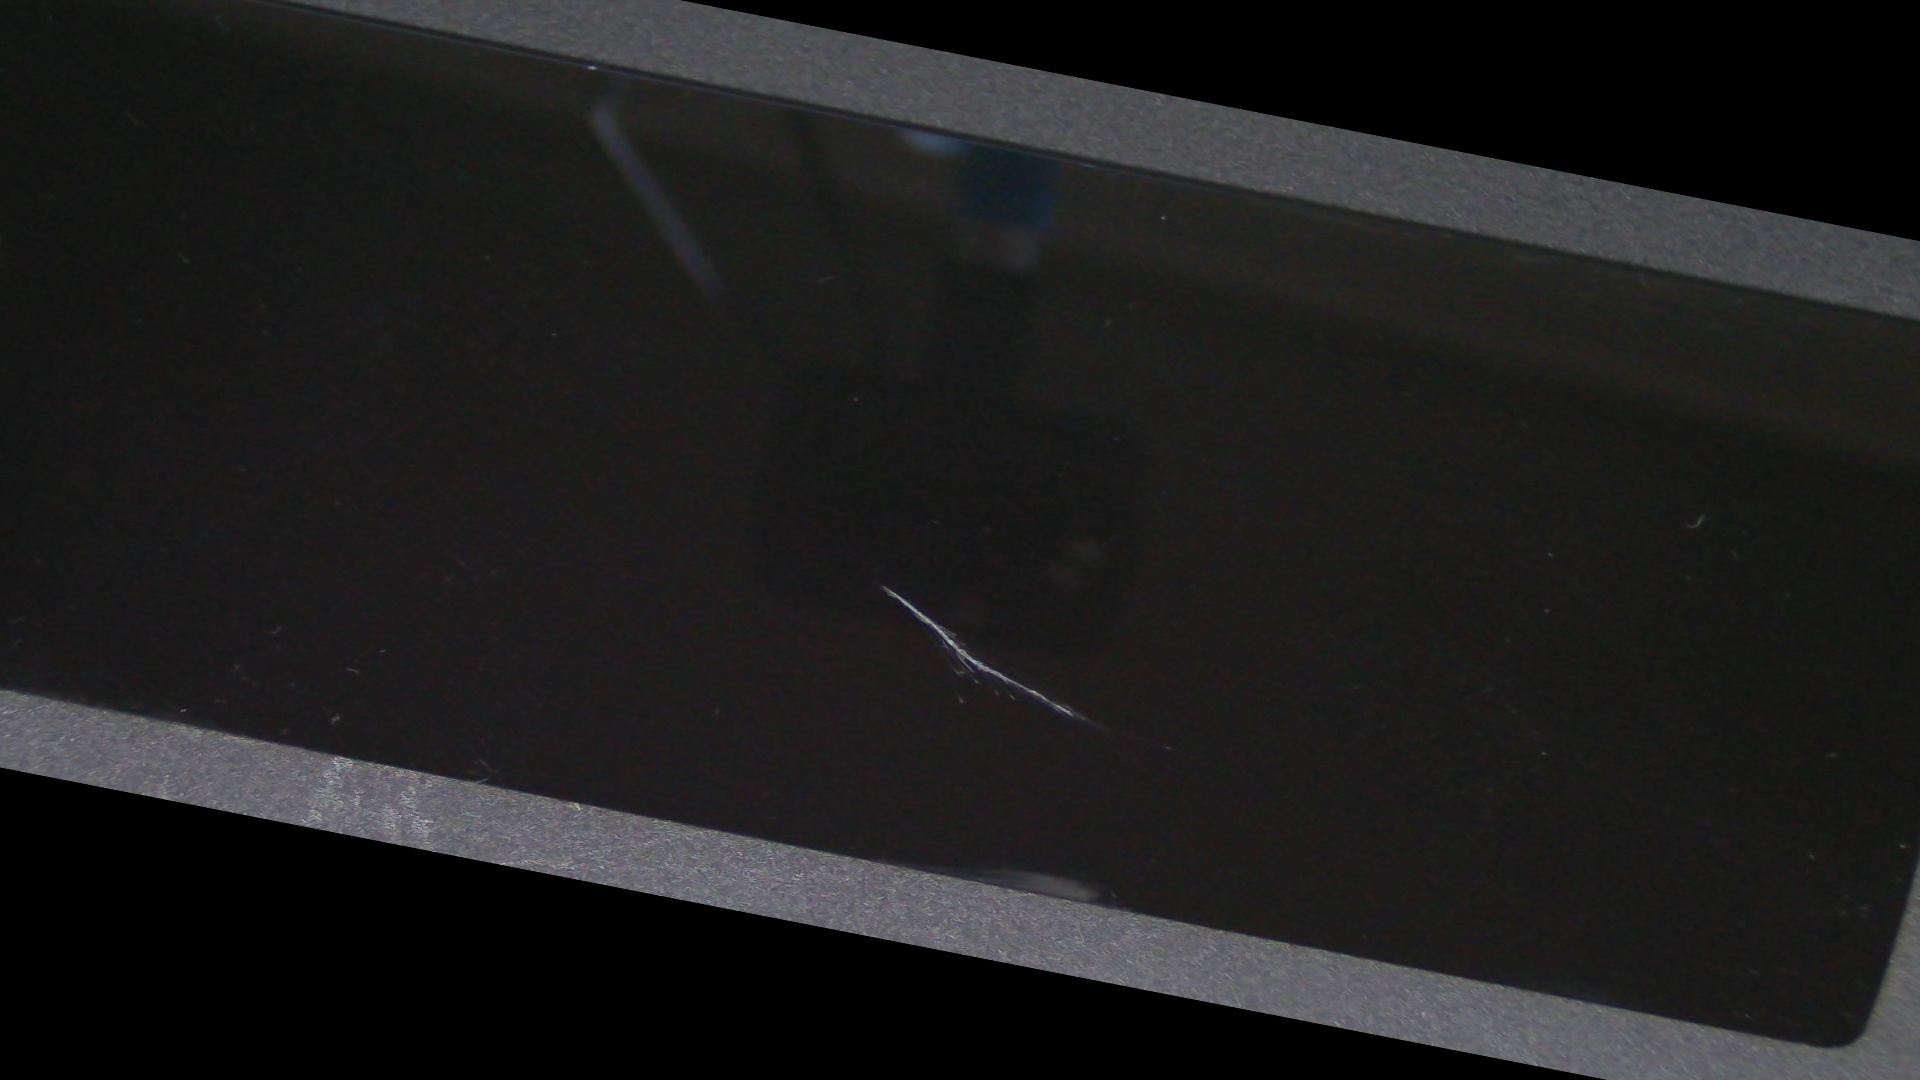oil: (301, 218, 1462, 951)
